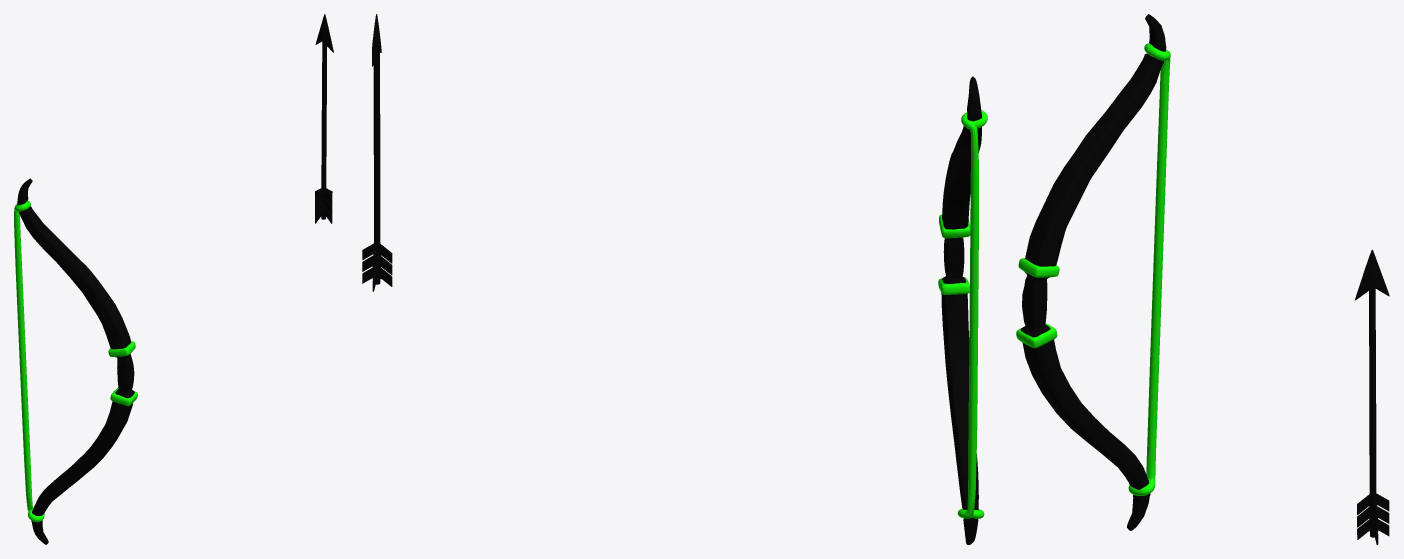
3 renders of one model, left to right at view 1: azimuth 30°, elevation 25°; view 2: azimuth 150°, elevation 25°; view 3: azimuth 270°, elevation 25°, orthographic. The views are drawn at different scales.
Visible parts, largest first — view 1: bow, string, stick; view 2: bow, string, stick; view 3: bow, string, stick, tip, edge_1, edge_2.
Boxes of the visible parts, x1=… form: bow: x1=17, y1=178, x2=134, y2=544; string: x1=14, y1=200, x2=44, y2=522; stick: x1=321, y1=41, x2=327, y2=219; bow: x1=941, y1=76, x2=981, y2=544; string: x1=957, y1=110, x2=987, y2=518; stick: x1=373, y1=51, x2=380, y2=284; bow: x1=1020, y1=14, x2=1166, y2=530; string: x1=1128, y1=43, x2=1170, y2=495; stick: x1=1369, y1=288, x2=1376, y2=537; tip: x1=1355, y1=249, x2=1389, y2=300; edge_1: x1=1016, y1=323, x2=1057, y2=348; edge_2: x1=1018, y1=258, x2=1059, y2=277.
Bounding box in the file's own units: 120 × 69.85 × 109.
